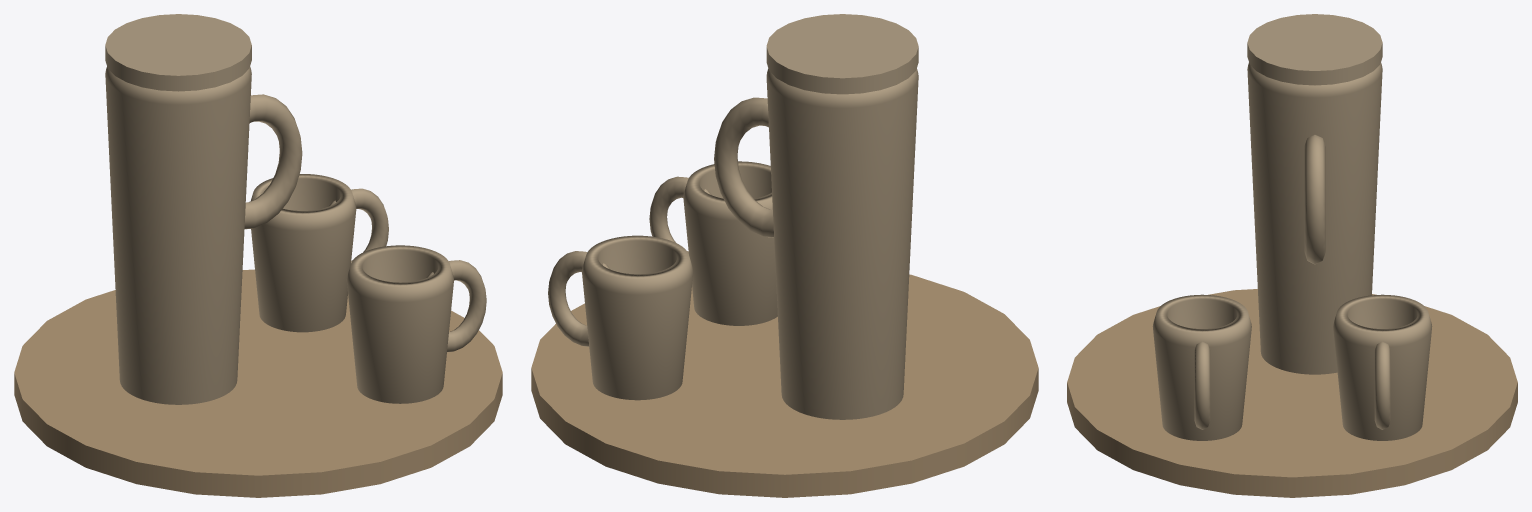
Rendered from ciderset.glb.
The picture shows the model from 3 angles, left to right: view 1: azimuth 30°, elevation 25°; view 2: azimuth 150°, elevation 25°; view 3: azimuth 270°, elevation 25°; orthographic projection. The views are drawn at different scales.
Parts seen in each view (by area): view 1: serving-tray, cider-jug, cider-cup-0-1, cider-cup--0-1, jug-lid, jug-handle, cup-handle-0-1, cup-handle--0-1; view 2: serving-tray, cider-jug, cider-cup--0-1, cider-cup-0-1, jug-lid, jug-handle, cup-handle--0-1, cup-handle-0-1; view 3: serving-tray, cider-jug, cider-cup--0-1, cider-cup-0-1, jug-lid, jug-handle, cup-handle--0-1, cup-handle-0-1.
Part boxes in pixels (x1,y1,x2,y2): serving-tray: (14,269,502,497); cider-jug: (105,66,251,404); cider-cup-0-1: (346,245,453,403); cider-cup--0-1: (251,174,356,332); jug-lid: (105,14,251,91); jug-handle: (244,94,302,229); cup-handle-0-1: (426,260,486,352); cup-handle--0-1: (329,188,388,262); serving-tray: (531,274,1038,497); cider-jug: (766,68,918,419); cider-cup--0-1: (582,235,693,400); cider-cup-0-1: (683,161,777,325); jug-lid: (766,14,918,94); jug-handle: (714,97,773,237); cup-handle--0-1: (548,251,610,346); cup-handle-0-1: (649,176,711,253); serving-tray: (1067,289,1517,497); cider-jug: (1247,63,1382,374); cider-cup--0-1: (1333,294,1432,440); cider-cup-0-1: (1152,294,1251,440); jug-lid: (1247,14,1382,85); jug-handle: (1304,135,1325,264); cup-handle--0-1: (1374,341,1390,429); cup-handle-0-1: (1194,341,1210,429).
Bounding box in the file's own units: 0.438 × 0.3536 × 0.438.
